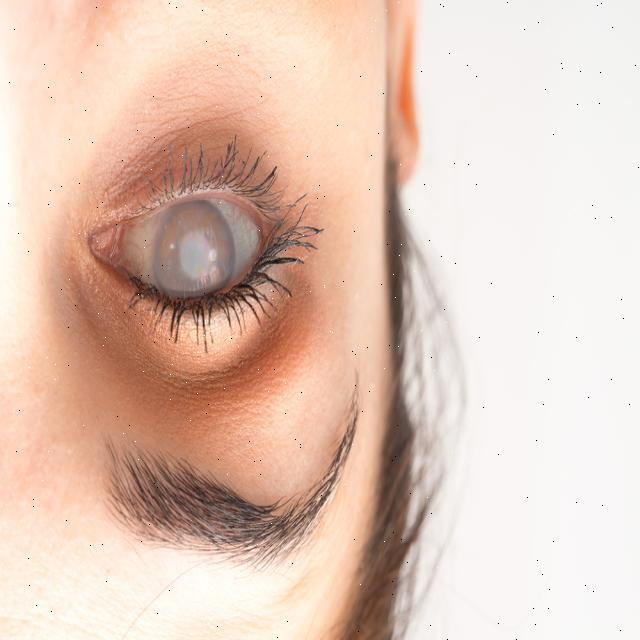Cataract: (154, 200, 236, 321)
